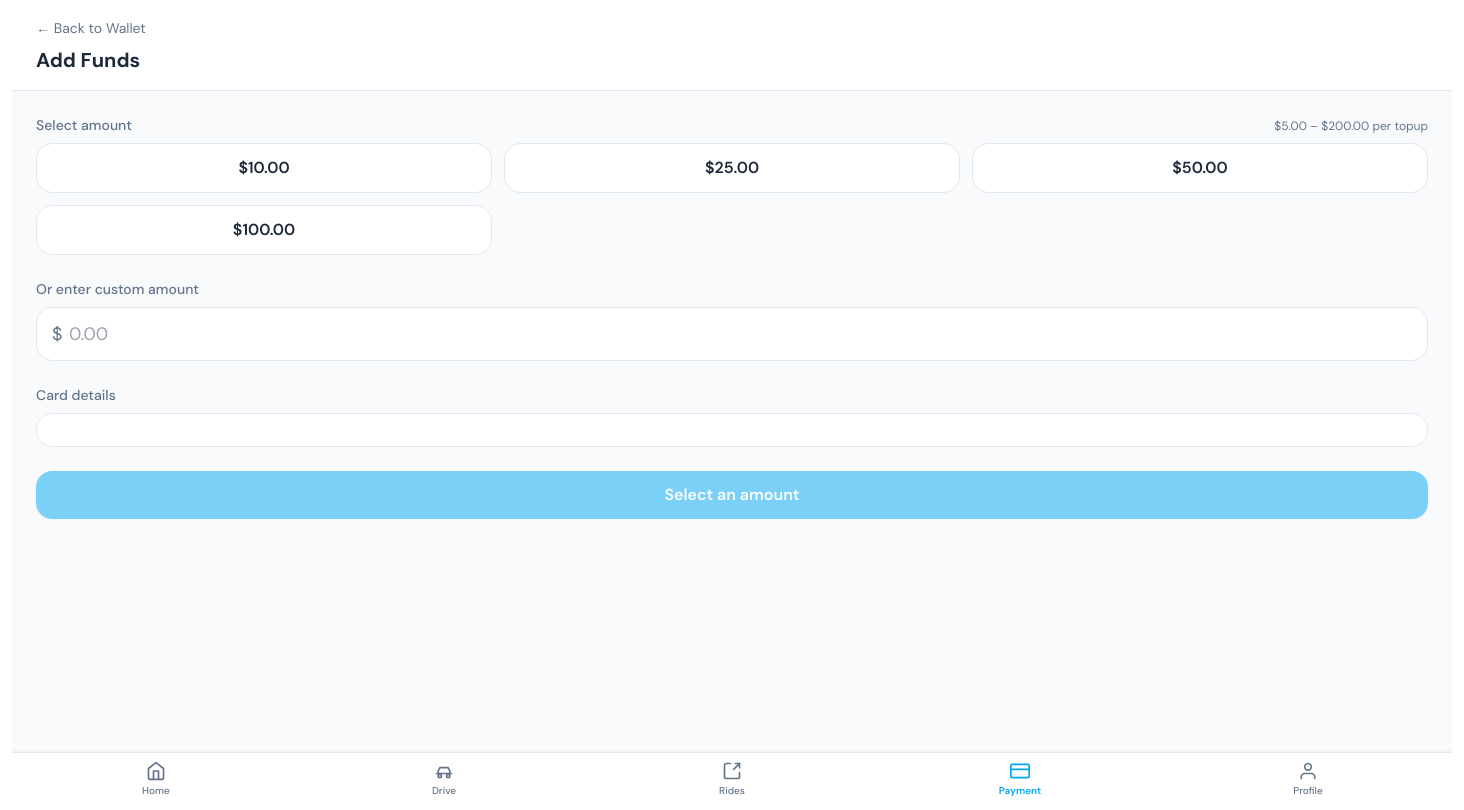
Test: AddFundsPage › pay button shows formatted amount after pill selection
Step 1. Click the button with test id "pill-2500" → (732, 168), box [504,143,960,193]
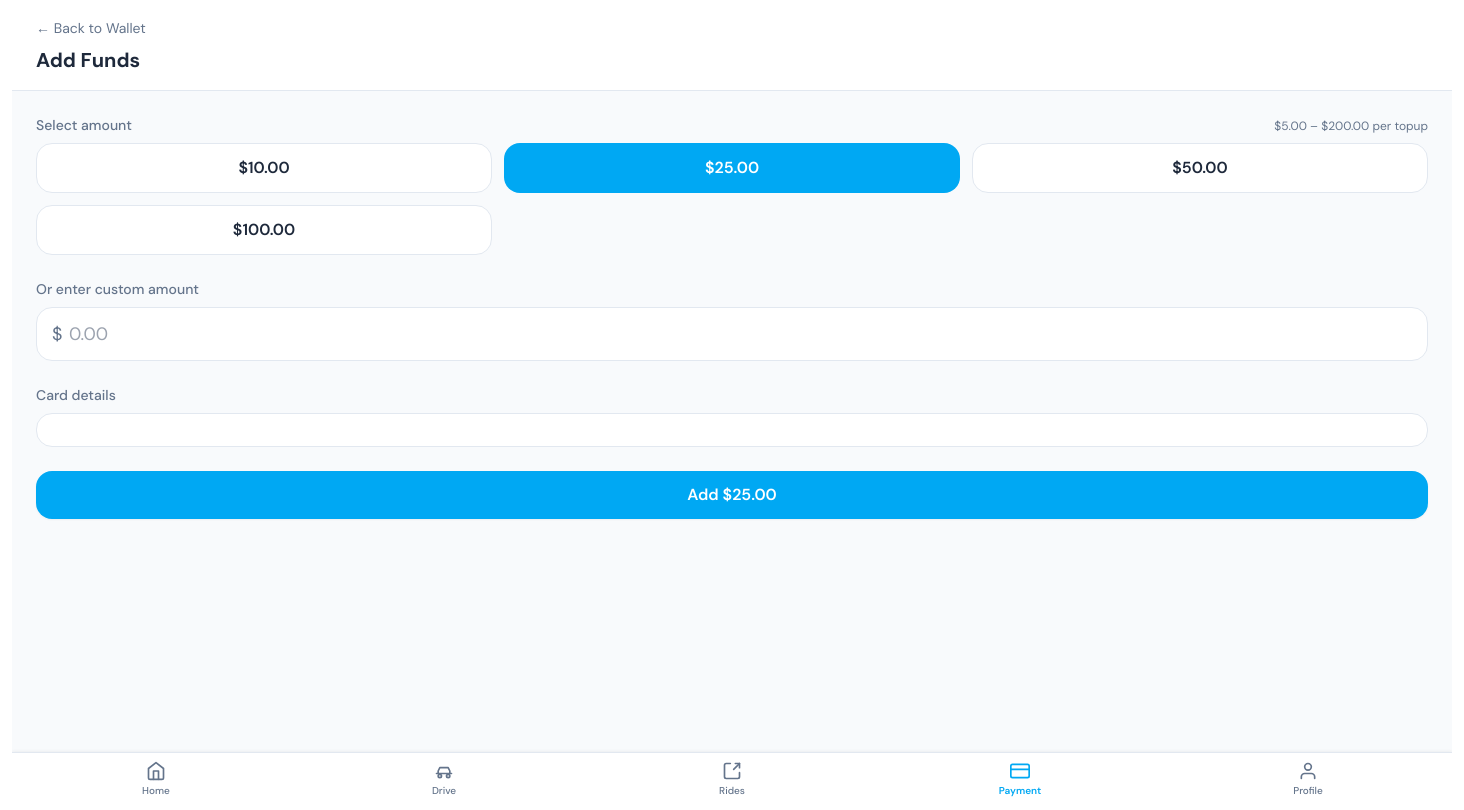
Now the button with test id "pay-button" reads "Add $25.00", box [36,471,1428,519]
Now the button with test id "pay-button" is enabled, box [36,471,1428,519]
